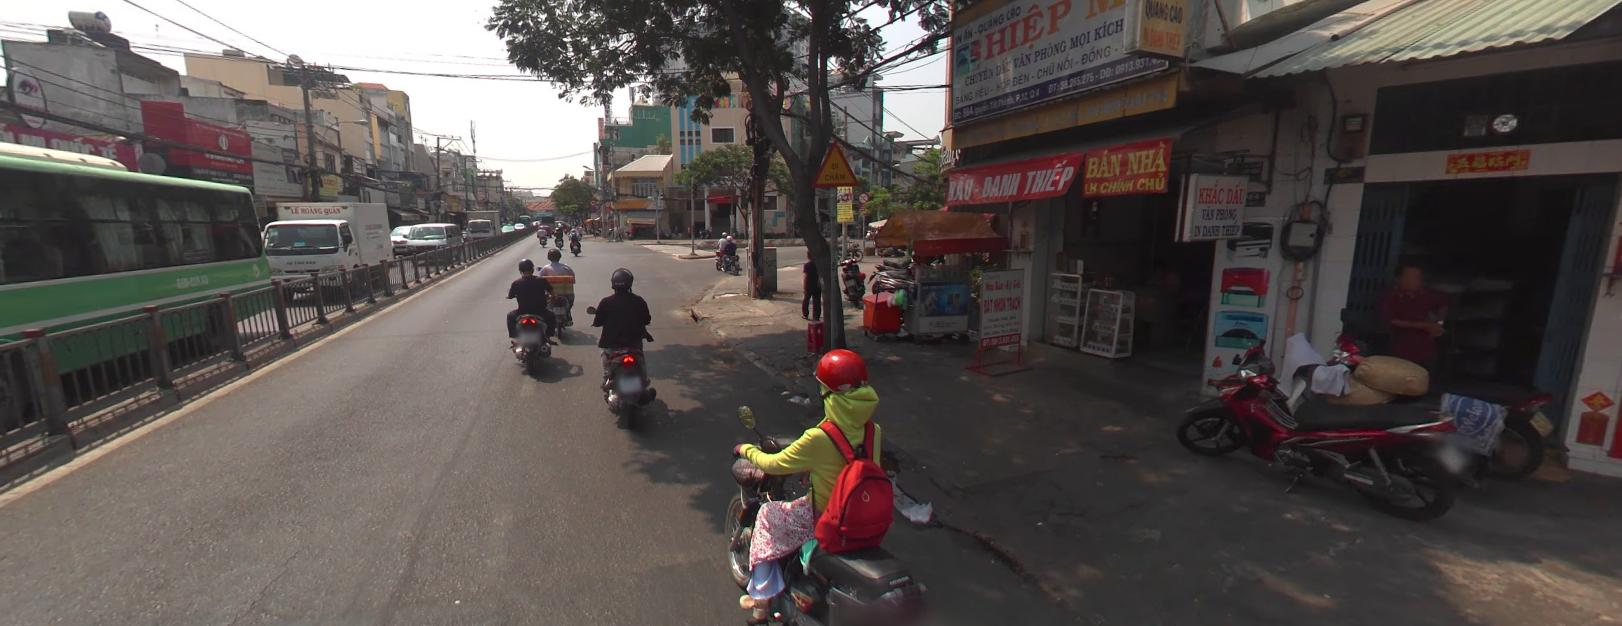Cam con lai: (857, 190, 868, 202), (604, 200, 610, 205), (589, 198, 595, 203)
Cam dung va do: (589, 204, 596, 212)
Nguy hiem: (810, 141, 858, 186)
